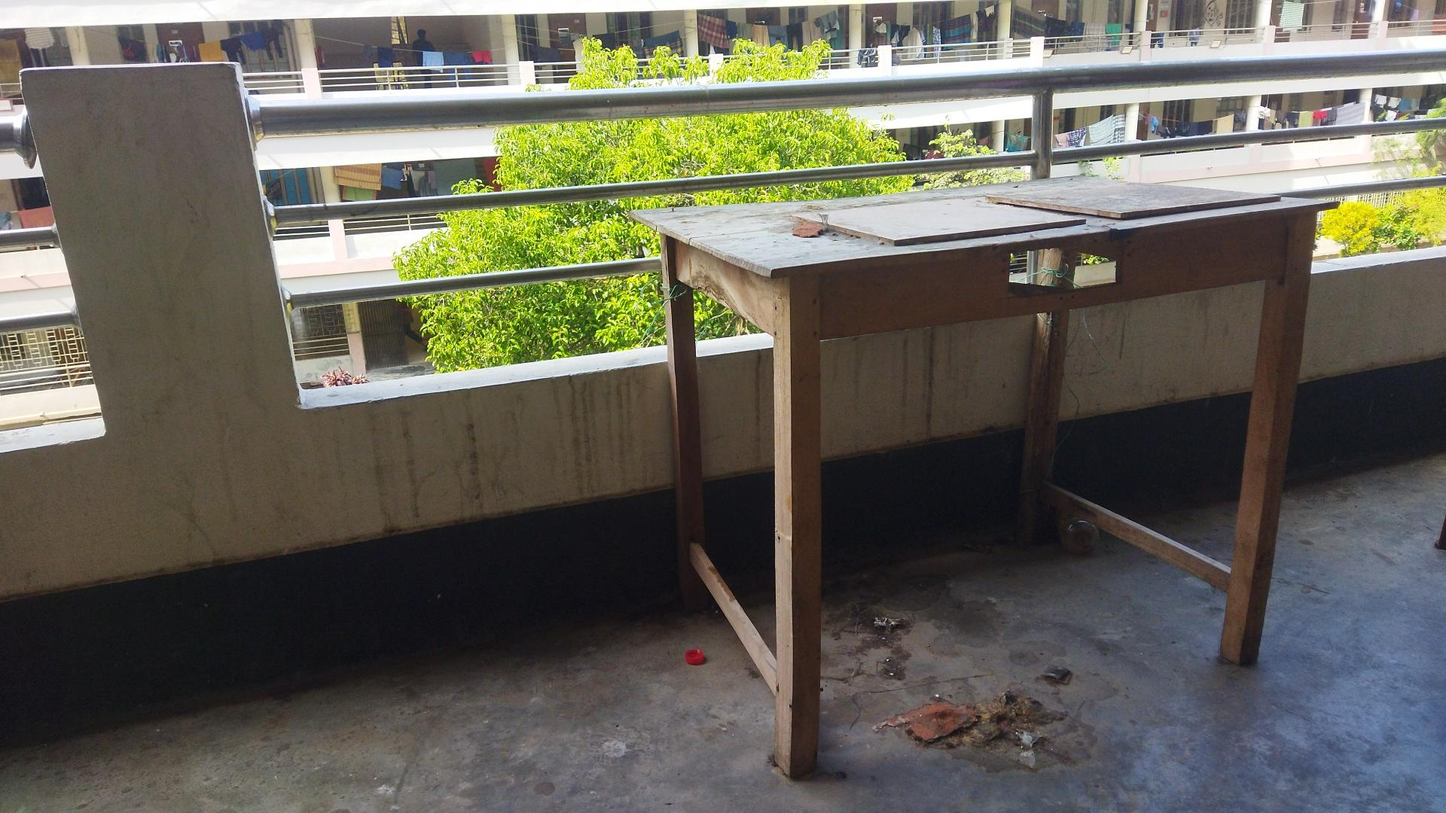Table: (593, 175, 1324, 771)
